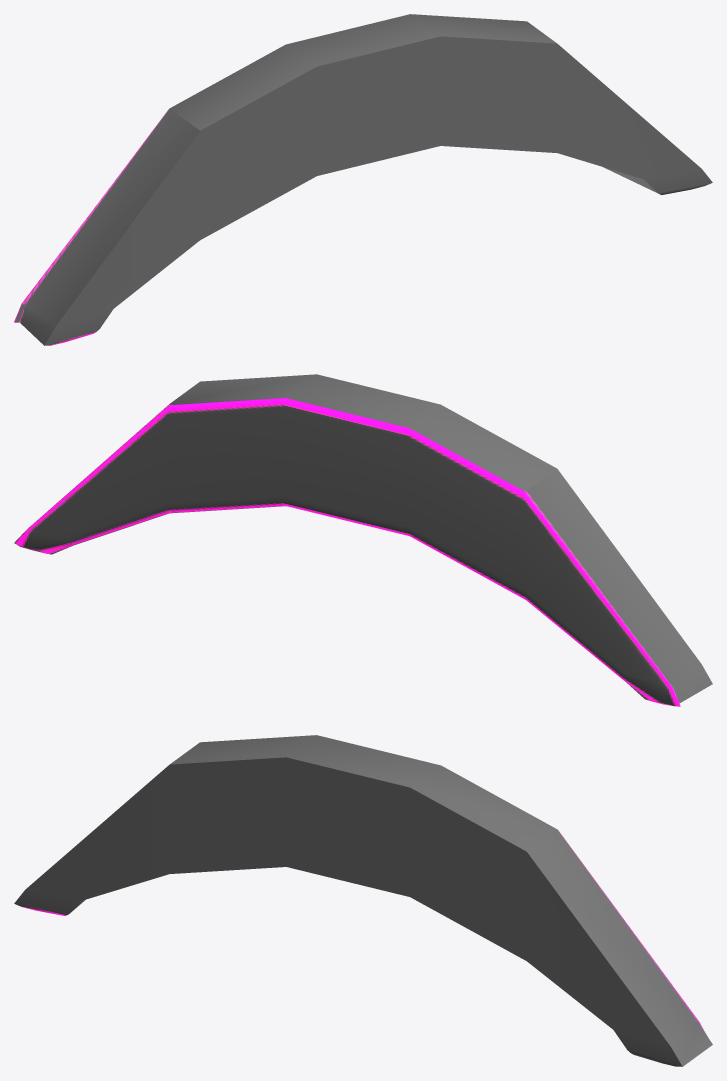
File: gamePadWall.fbx
3 views of the same model, one above another, from view 1: azimuth 30°, elevation 25°; view 2: azimuth 150°, elevation 25°; view 3: azimuth 330°, elevation 25° (orthographic).
Parts seen in each view (by area): view 1: gamePadWall_Baked; view 2: gamePadWall_Baked; view 3: gamePadWall_Baked.
Part boxes in pixels (x1,y1,x2,y2): gamePadWall_Baked: (14,14,712,345); gamePadWall_Baked: (14,374,712,706); gamePadWall_Baked: (14,735,712,1066).
Size of the model in its own units: 4608 by 1420 by 388.
Materials: 1 (1 with a texture image).
